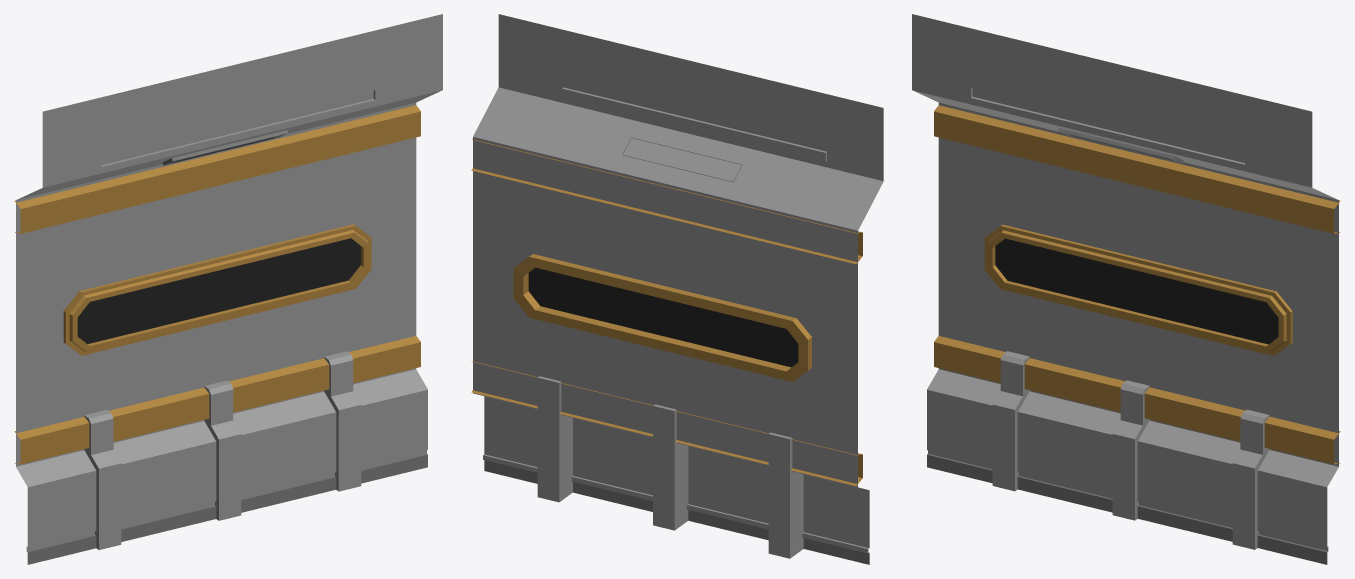
File: LongWindow_Wall_SideB.glb
3 views of the same model, side by side, from view 1: azimuth 30°, elevation 25°; view 2: azimuth 150°, elevation 25°; view 3: azimuth 330°, elevation 25° (orthographic). The views are drawn at different scales.
Visible parts, largest first — view 1: LongWindow_Wall_SideB; view 2: LongWindow_Wall_SideB; view 3: LongWindow_Wall_SideB.
Part boxes in pixels (box(x1,y1,x2,y2)): LongWindow_Wall_SideB: box(14, 14, 442, 564); LongWindow_Wall_SideB: box(471, 14, 883, 564); LongWindow_Wall_SideB: box(912, 14, 1340, 564).
Bounding box in the file's own units: 1.36 × 1.51 × 0.1821.
